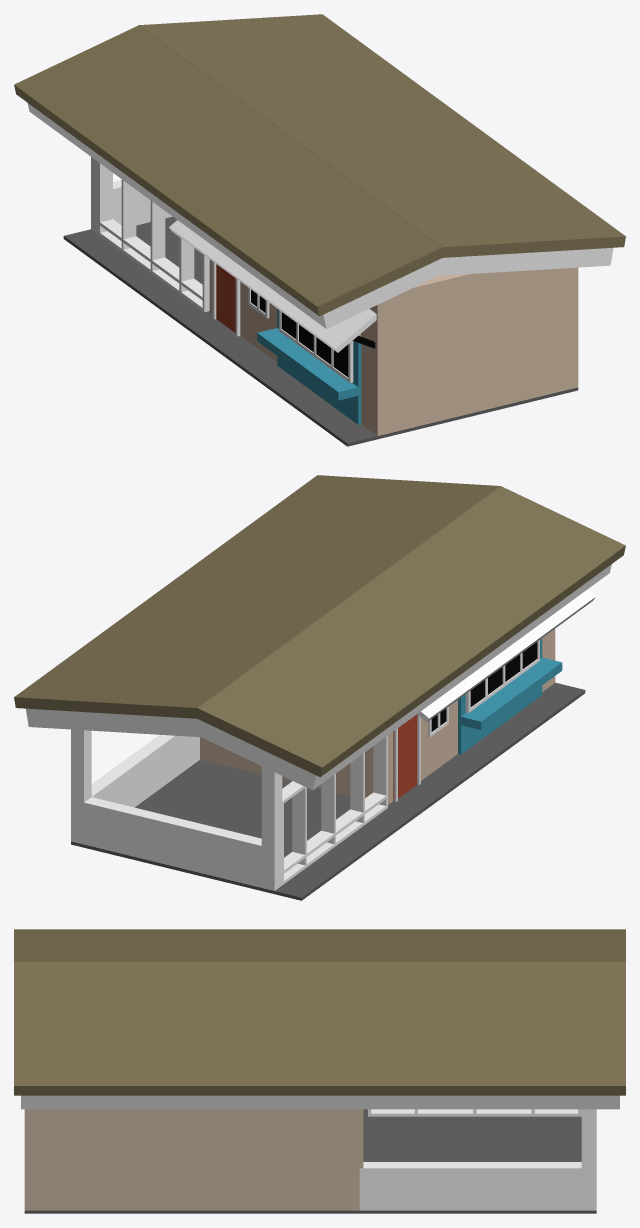
The model's file is WaterStation.glb.
3 renders of one model, top to bottom at view 1: azimuth 30°, elevation 25°; view 2: azimuth 150°, elevation 25°; view 3: azimuth 270°, elevation 25°, orthographic.
Parts seen in each view (by area): view 1: cube.058; view 2: cube.058; view 3: cube.058.
Part boxes in pixels (x1=…): cube.058: x1=14, y1=14, x2=625, y2=446; cube.058: x1=14, y1=475, x2=625, y2=900; cube.058: x1=14, y1=929, x2=625, y2=1213.
Bounding box in the file's own units: 1.92 × 1.08 × 3.28.
9 materials, 9 textured.
